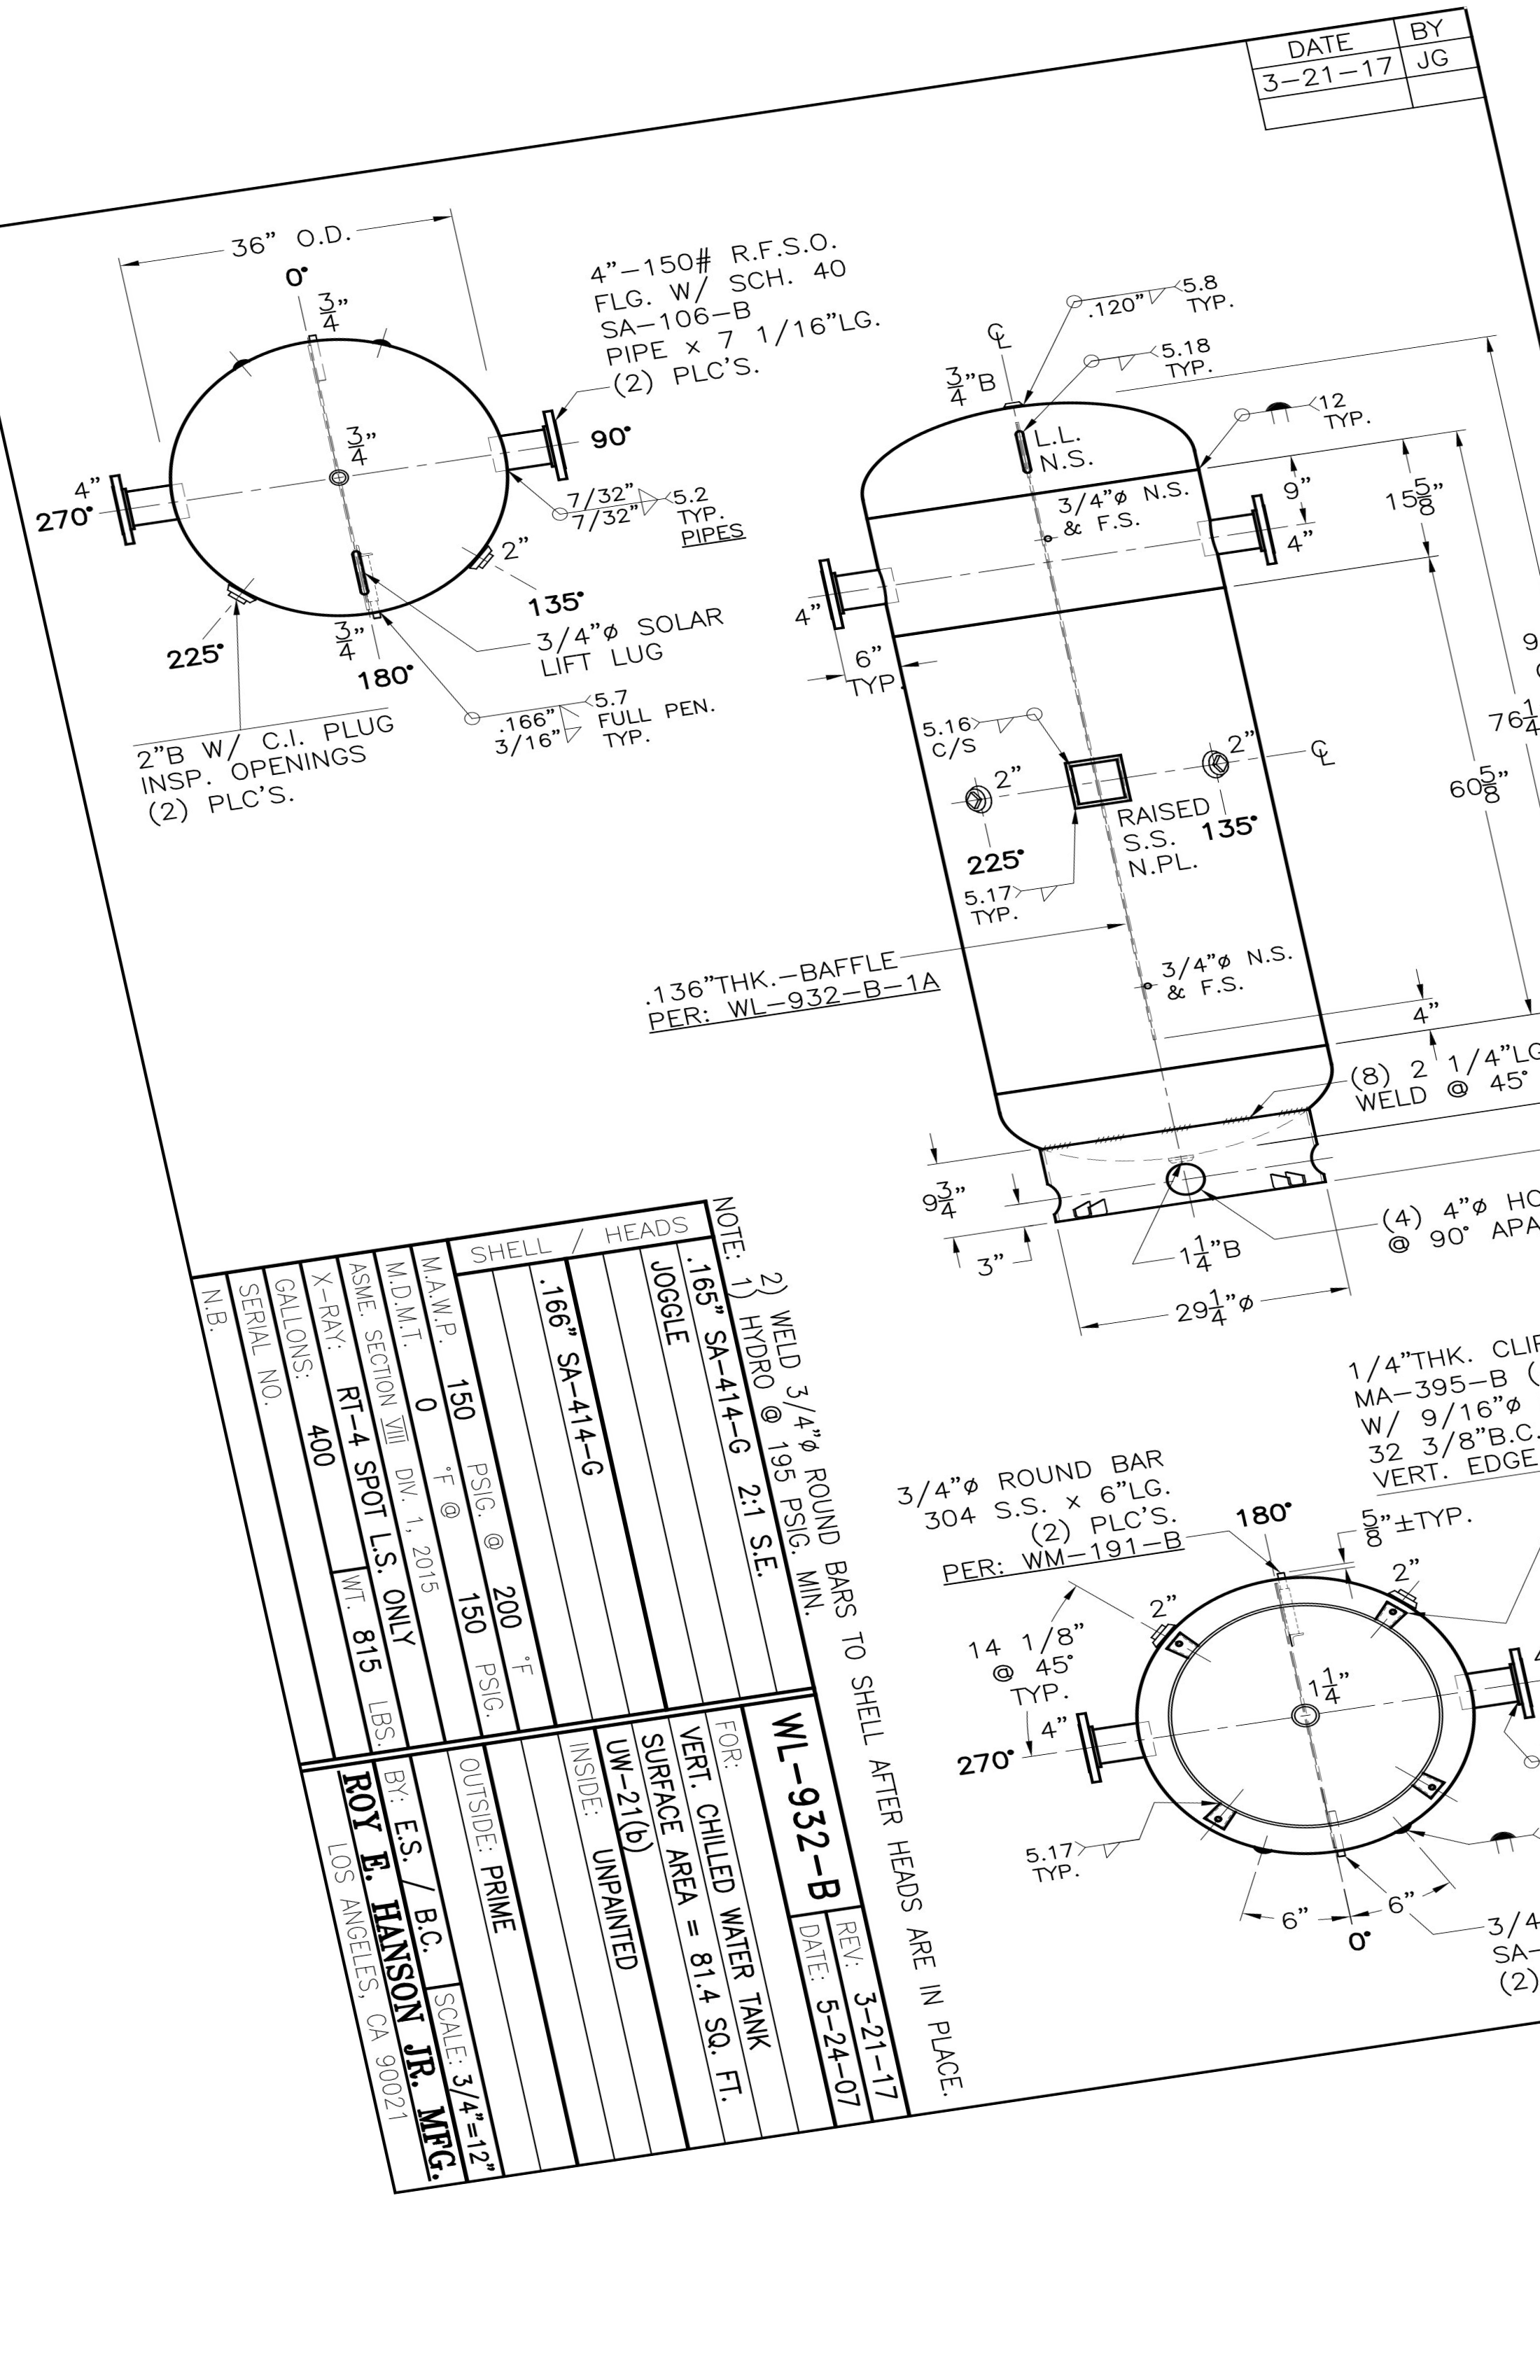Nozzle: (1039, 1695, 1179, 1799), (803, 541, 914, 657), (80, 458, 210, 557), (473, 409, 593, 513), (1174, 486, 1290, 585), (1439, 1655, 1540, 1743)
